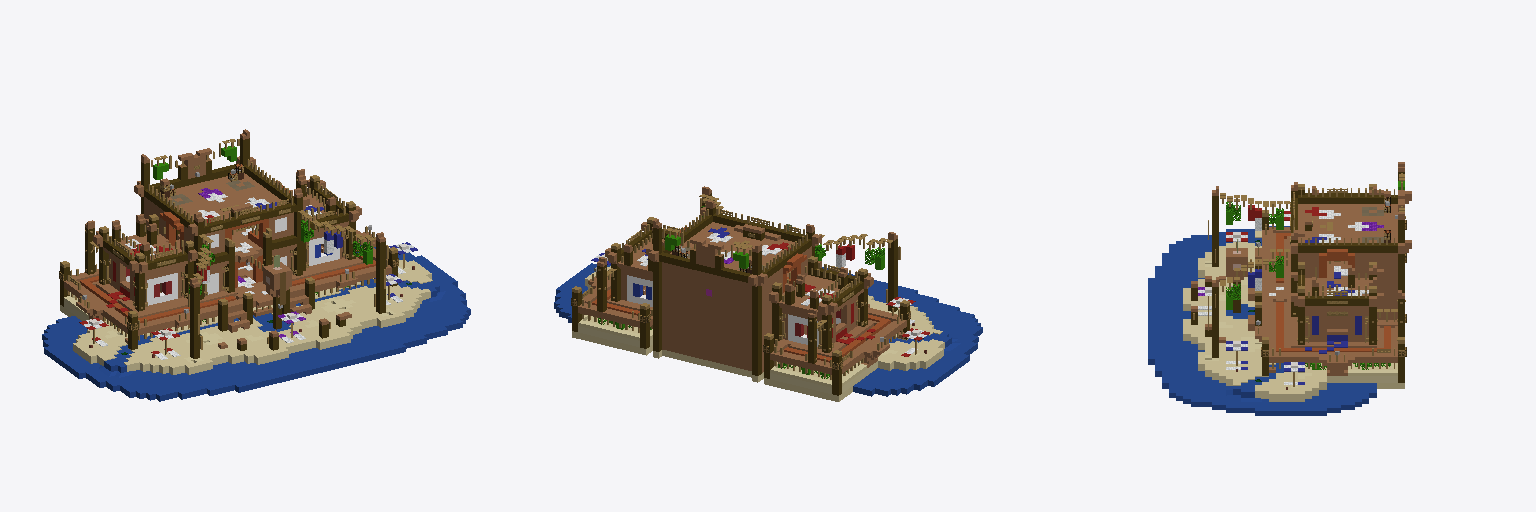
3 renders of one model, left to right at view 1: azimuth 30°, elevation 25°; view 2: azimuth 150°, elevation 25°; view 3: azimuth 270°, elevation 25°, orthographic.
Bounding box in the file's own units: 61 × 21 × 37.
44 materials, 10 textured.